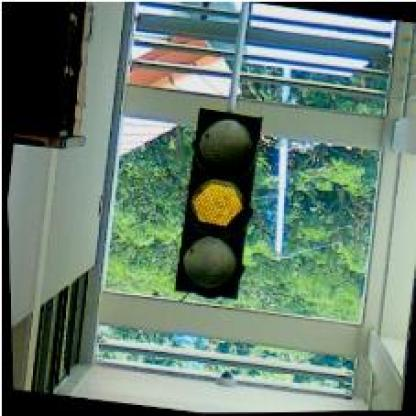yellow: (168, 106, 268, 302)
